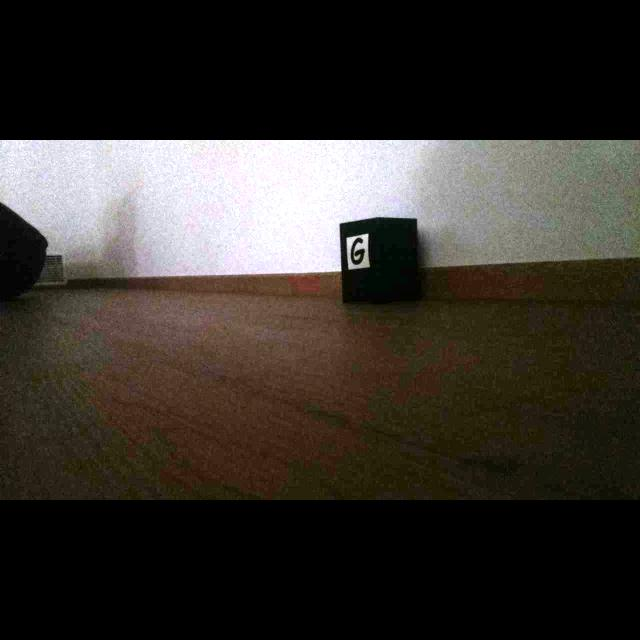G: (351, 238, 365, 265)
